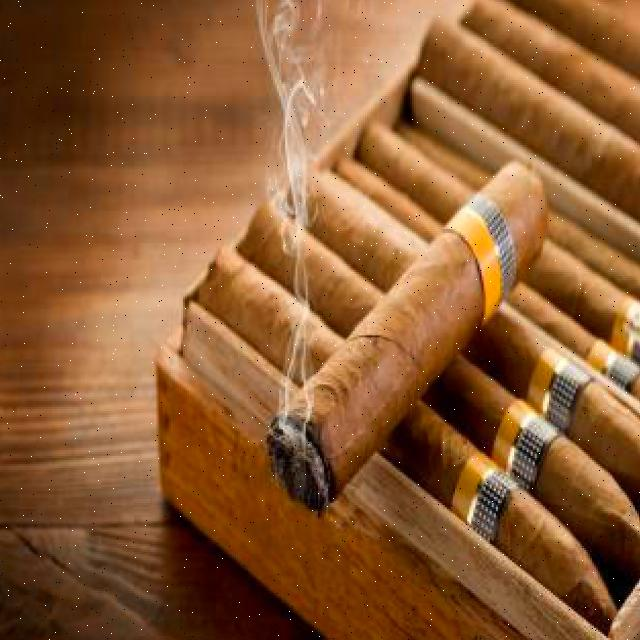smoke: (250, 4, 348, 454)
